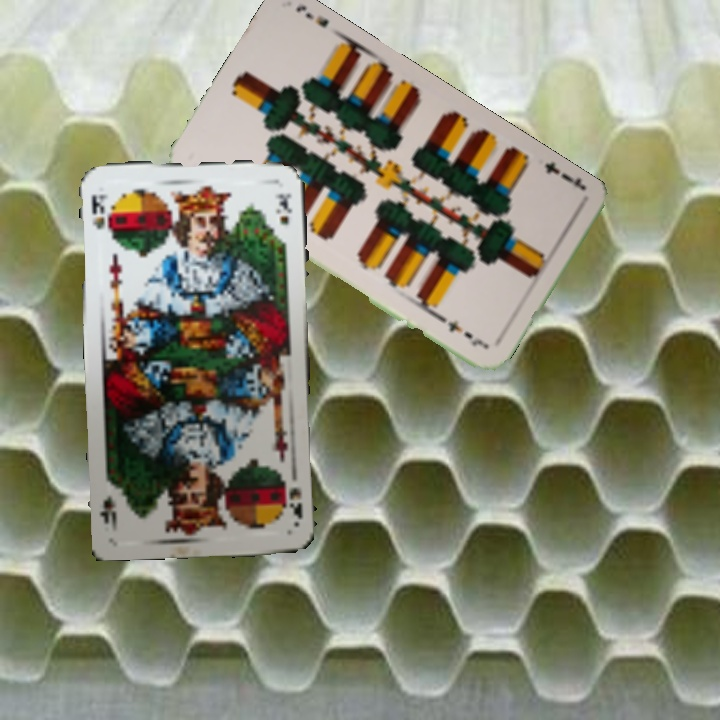E7: (540, 158, 588, 193)
SK: (87, 190, 110, 231), (285, 484, 305, 522)
